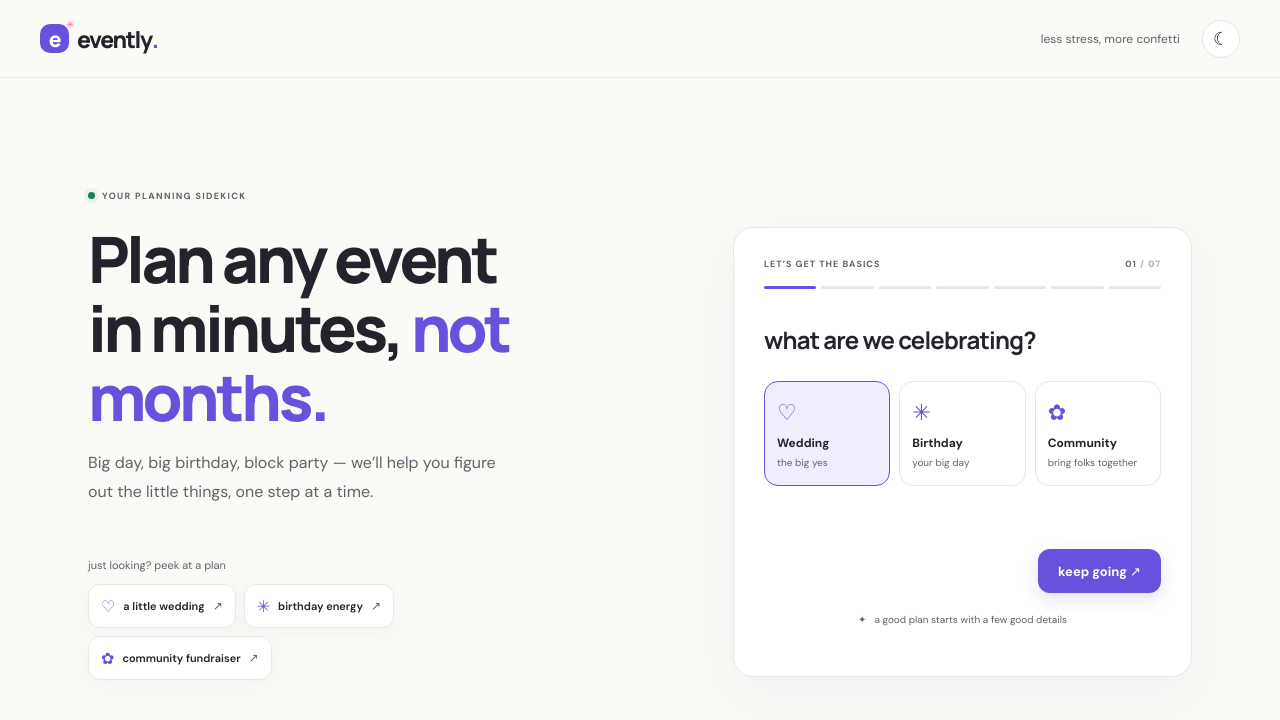
Scenario: Evently interface › opens the sample plan and exposes its tabs
The image size is (1280, 720).
Click the button "♡ a little wedding ↗" at (162, 606), box [88, 584, 236, 628]
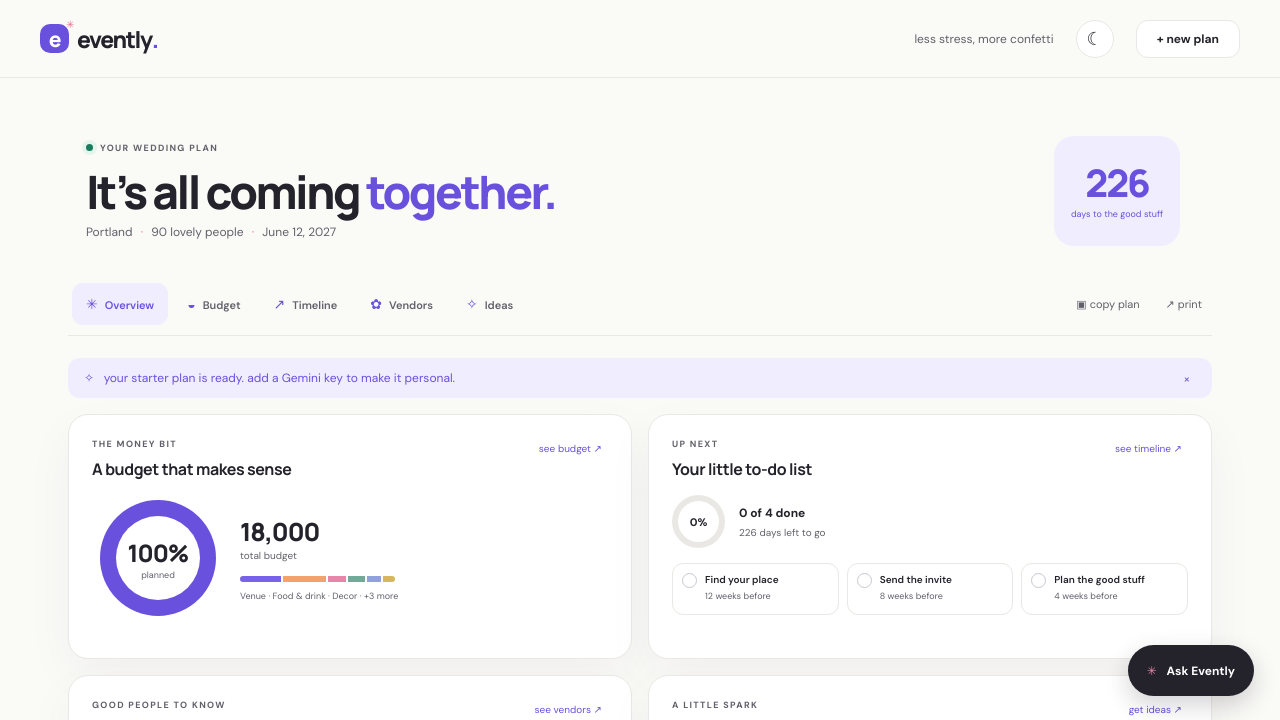
Now the element named "plan sections" is shown, box [72, 283, 527, 325]
Now the tab "◒Budget" is shown, box [173, 283, 255, 325]
